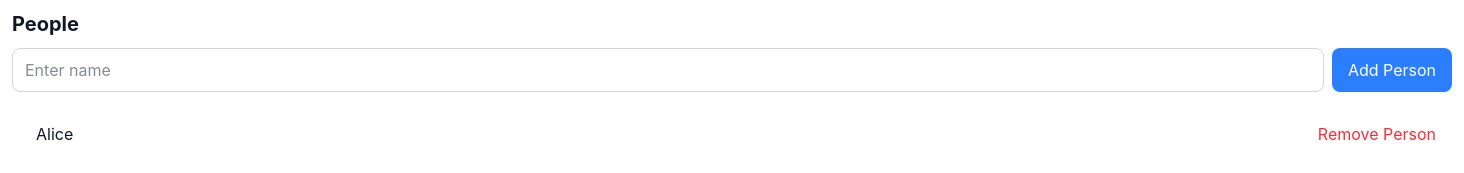
Test: PeoplePanel › removes a person (PEOPLE-02)
Check: the text "Alice" is shown, box [36,124,73,144]
Step 1. Click the button "Remove Person" → (1377, 134), box [1318,112,1436,156]
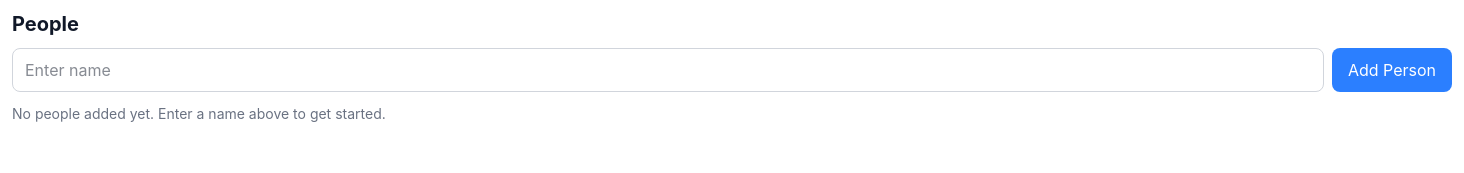
Check: the text "Alice" is gone
Check: the text "No people added yet. Enter a name above to get started." is shown, box [12,105,386,122]
